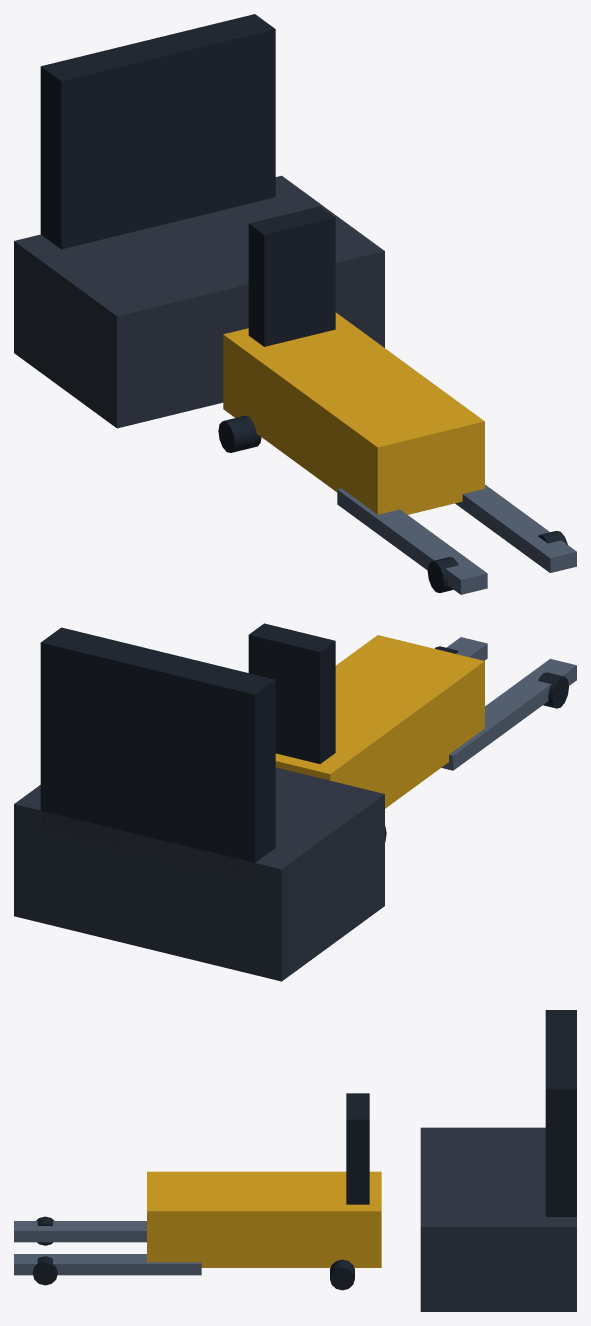
The model's file is yard-pallet-charger-body-crafted-surface.glb.
3 renders of one model, top to bottom at view 1: azimuth 30°, elevation 25°; view 2: azimuth 150°, elevation 25°; view 3: azimuth 270°, elevation 25°, orthographic. The views are drawn at different scales.
Visible parts, largest first — view 1: Authored shadows false:false; view 2: Authored shadows false:false; view 3: Authored shadows false:false.
Boxes of the visible parts, x1,y1,x2,y2 form: Authored shadows false:false: (14,14,576,594); Authored shadows false:false: (14,623,576,981); Authored shadows false:false: (14,1010,576,1311).
Size of the model in its own units: 0.4167 by 0.4167 by 1.
